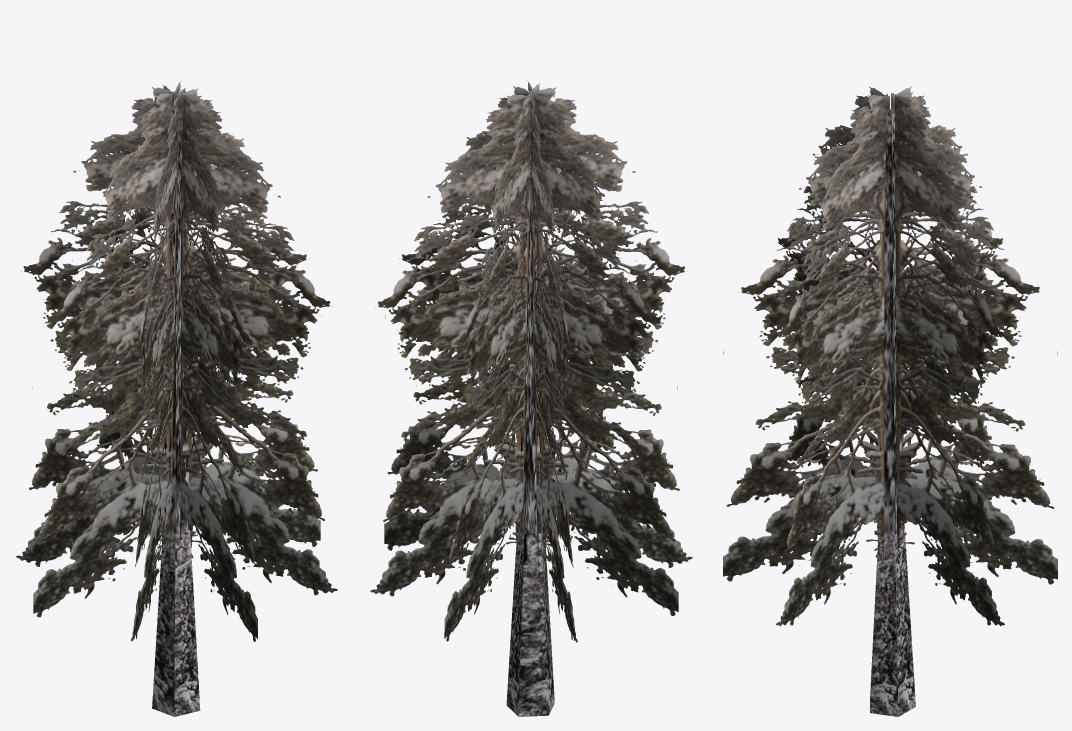
Rendered from Tree1.fbx.
3 renders of one model, left to right at view 1: azimuth 30°, elevation 25°; view 2: azimuth 150°, elevation 25°; view 3: azimuth 270°, elevation 25°, orthographic.
Visible parts, largest first — view 1: Plane.001, Plane.006, Cylinder; view 2: Plane.001, Plane.006, Cylinder; view 3: Plane.006, Plane.001, Cylinder.
Boxes of the visible parts, <box> form: Plane.001: <box>32,85,321,641</box>; Plane.006: <box>16,81,337,641</box>; Cylinder: <box>152,109,200,716</box>; Plane.001: <box>384,83,678,641</box>; Plane.006: <box>370,80,692,642</box>; Cylinder: <box>506,141,554,716</box>; Plane.006: <box>776,86,1004,626</box>; Plane.001: <box>723,92,1057,637</box>; Cylinder: <box>870,109,915,716</box>.
Size of the model in its own units: 1316 by 2699 by 1316.
3 materials, 3 textured.
